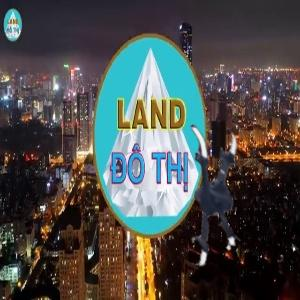drone: (132, 125, 271, 264)
